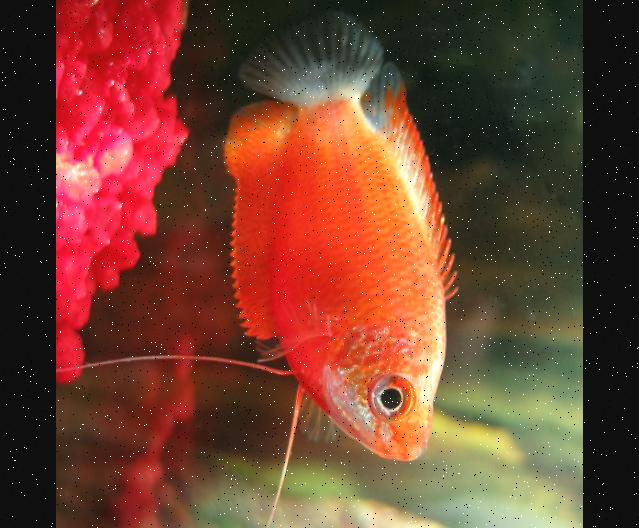Mulut: (354, 422, 457, 496)
Sirip Anal: (208, 87, 305, 348)
Sirip Dada: (250, 282, 362, 466)
Sirip Ekor: (223, 0, 390, 118)
Sirip Perut: (55, 337, 318, 528)
Sirip Punggung: (364, 49, 467, 306)
